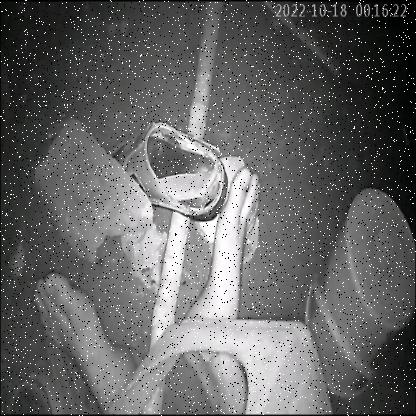leg: (176, 162, 270, 416), (25, 254, 155, 416)
